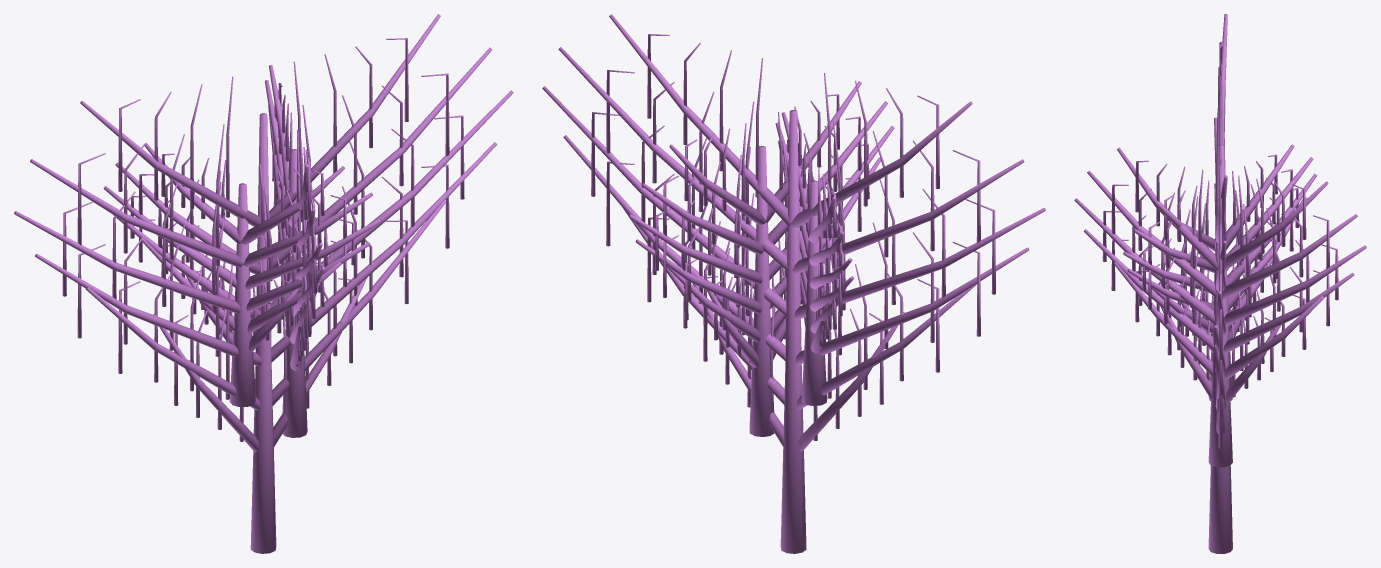
Rendered from underwater-reef-worlds-gorgonian-tree-e74020db__7005.glb.
3 views of the same model, side by side, from view 1: azimuth 30°, elevation 25°; view 2: azimuth 150°, elevation 25°; view 3: azimuth 270°, elevation 25° (orthographic). The views are drawn at different scales.
Visible parts, largest first — view 1: gorgonian-tree; view 2: gorgonian-tree; view 3: gorgonian-tree.
Part boxes in pixels (<box>): gorgonian-tree: <box>14,14,513,553</box>; gorgonian-tree: <box>542,14,1045,553</box>; gorgonian-tree: <box>1074,14,1366,553</box>.
Bounding box in the file's own units: 2.41 × 2.26 × 1.32.
